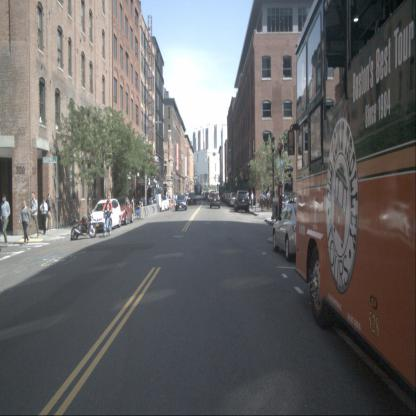cone: (169, 199, 172, 208), (170, 200, 172, 208), (173, 199, 174, 208)
